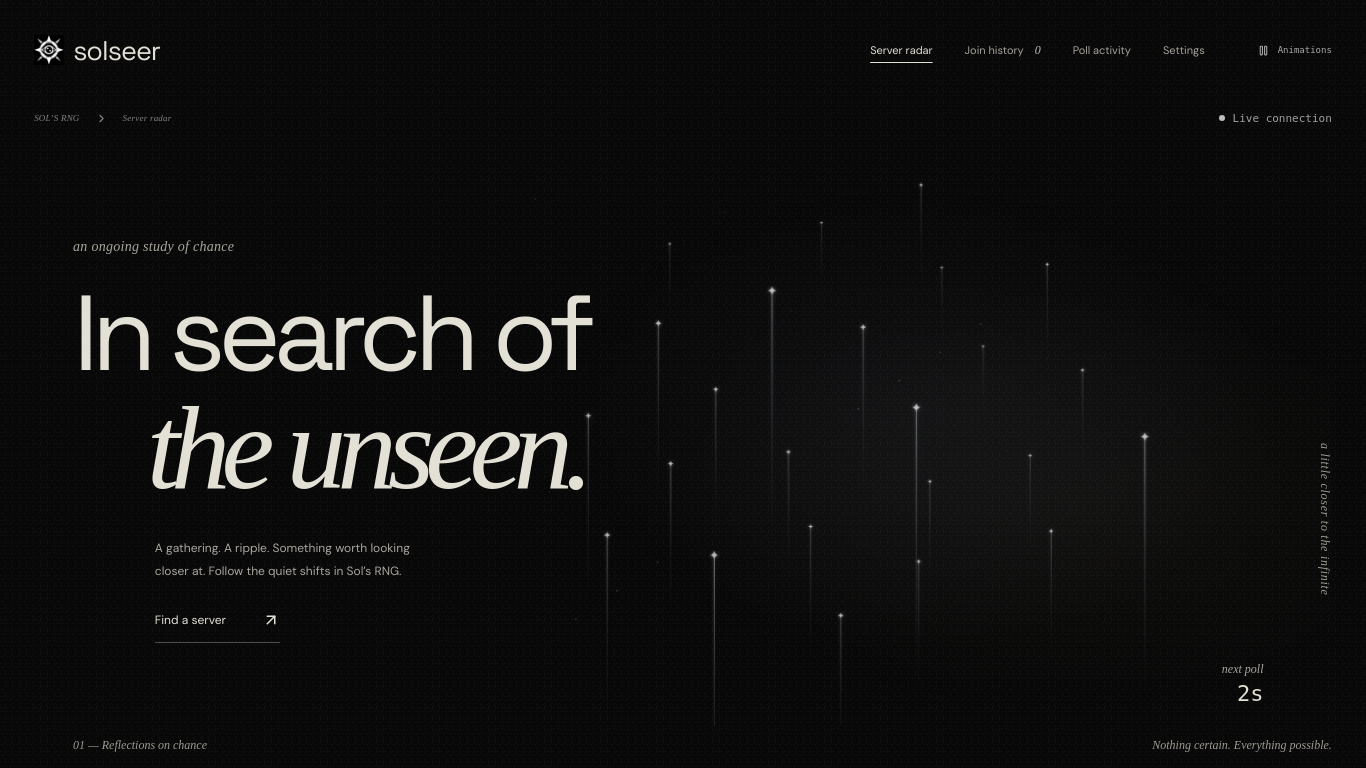
Test case: activity reports one-page two-second authenticated polling
Step 1. Click the button "Poll activity" → (1102, 50), box [1061,31,1143,69]
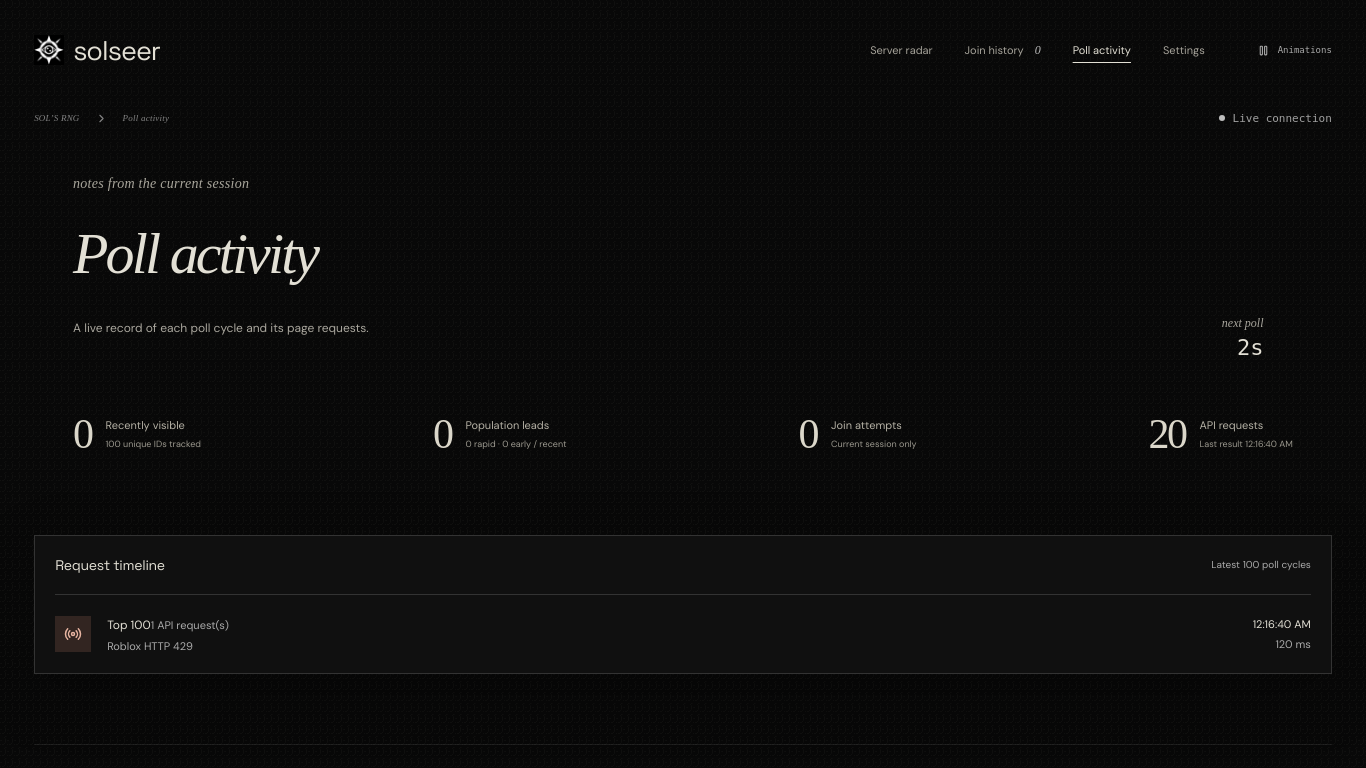
Now the text "Latest 100 poll cycles" is shown, box [1211,558,1311,571]
Now the number of elements with class "event" is 1, box [55,594,1311,673]
Now the text "Top 100" is shown, box [107,617,151,633]
